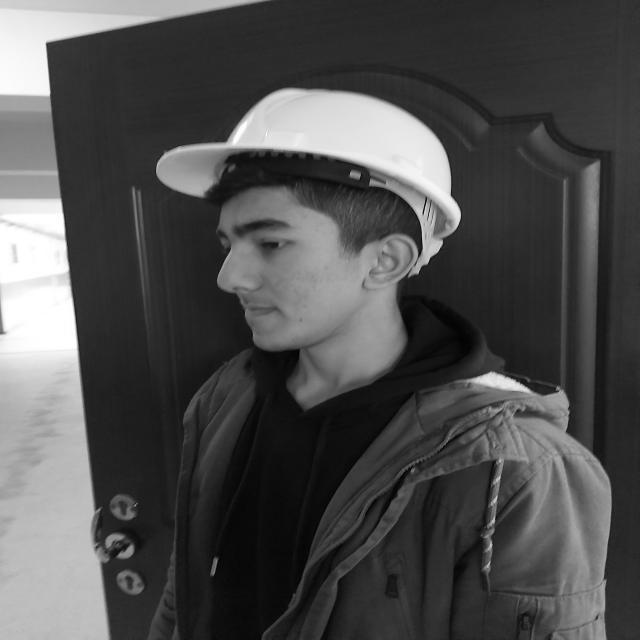safety_helmet: (156, 89, 463, 271)
